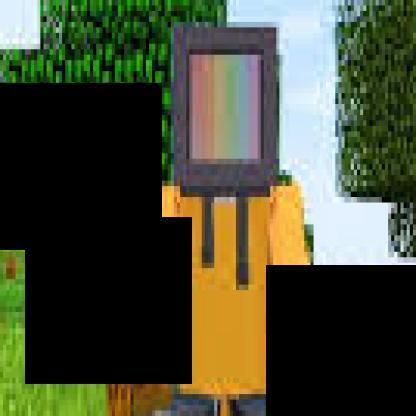minecraft-pigs: (106, 400, 370, 410)
